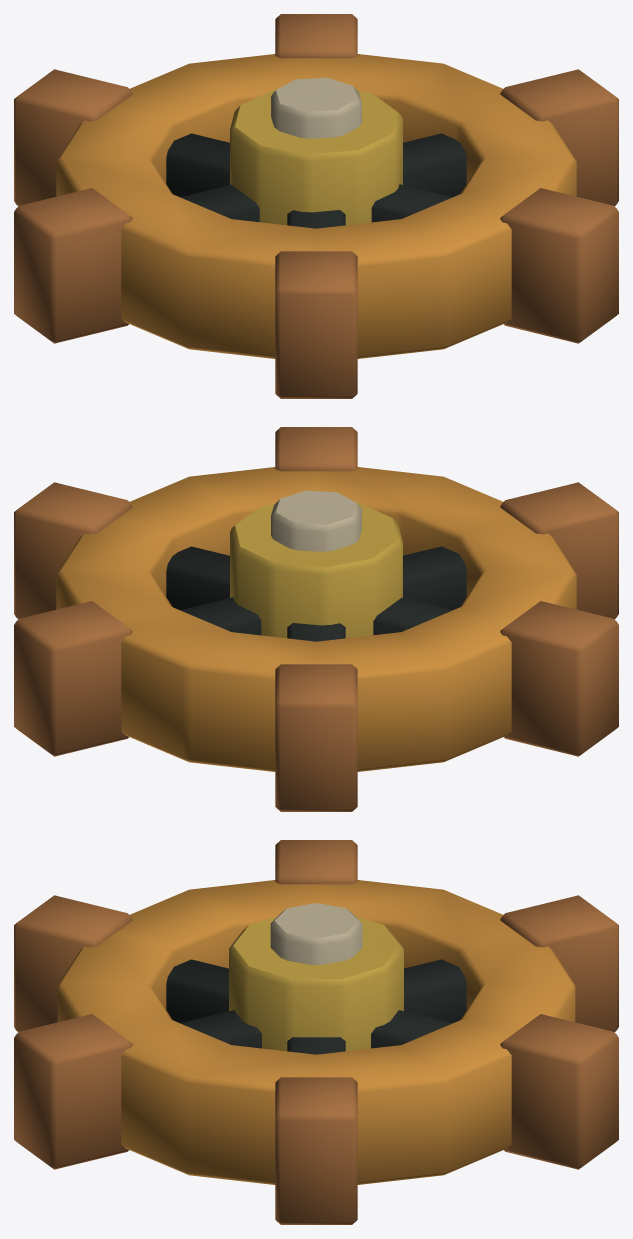
Rendered from orbital_flywheel_sat.glb.
3 views of the same model, one above another, from view 1: azimuth 30°, elevation 25°; view 2: azimuth 150°, elevation 25°; view 3: azimuth 270°, elevation 25° (orthographic).
Visible parts, largest first — view 1: orbital_flywheel_sat_mesh; view 2: orbital_flywheel_sat_mesh; view 3: orbital_flywheel_sat_mesh.
Part boxes in pixels (x1,y1,x2,y2): orbital_flywheel_sat_mesh: (14,14,618,398); orbital_flywheel_sat_mesh: (14,427,618,811); orbital_flywheel_sat_mesh: (14,840,618,1224).
Bounding box in the file's own units: 0.96 × 0.36 × 0.8834.
